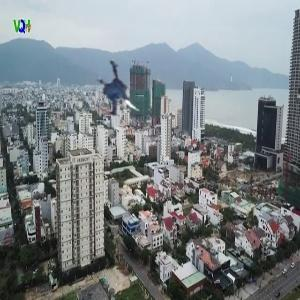drone: (82, 57, 158, 133)
